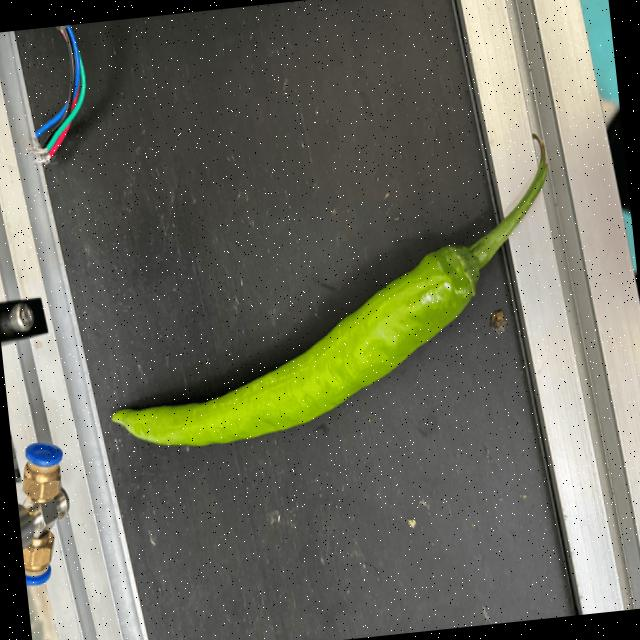chili: (107, 243, 482, 448)
